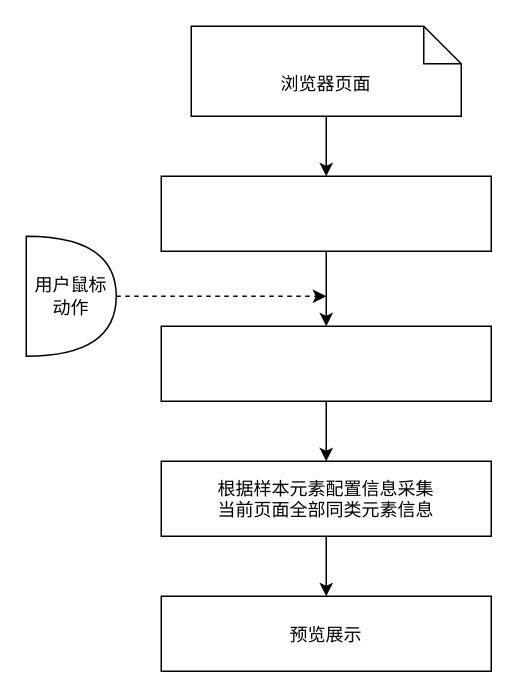
The diagram is 518 pixels wide and 698 high, and some of its shapes have lost their labels. Here are the shapes that lost their labels. From the top down, the box of each, then its label:
(160, 175, 491, 251): 高亮标示当前鼠标悬停位置网页元素
(160, 325, 491, 401): 生成样本元素配置信息
